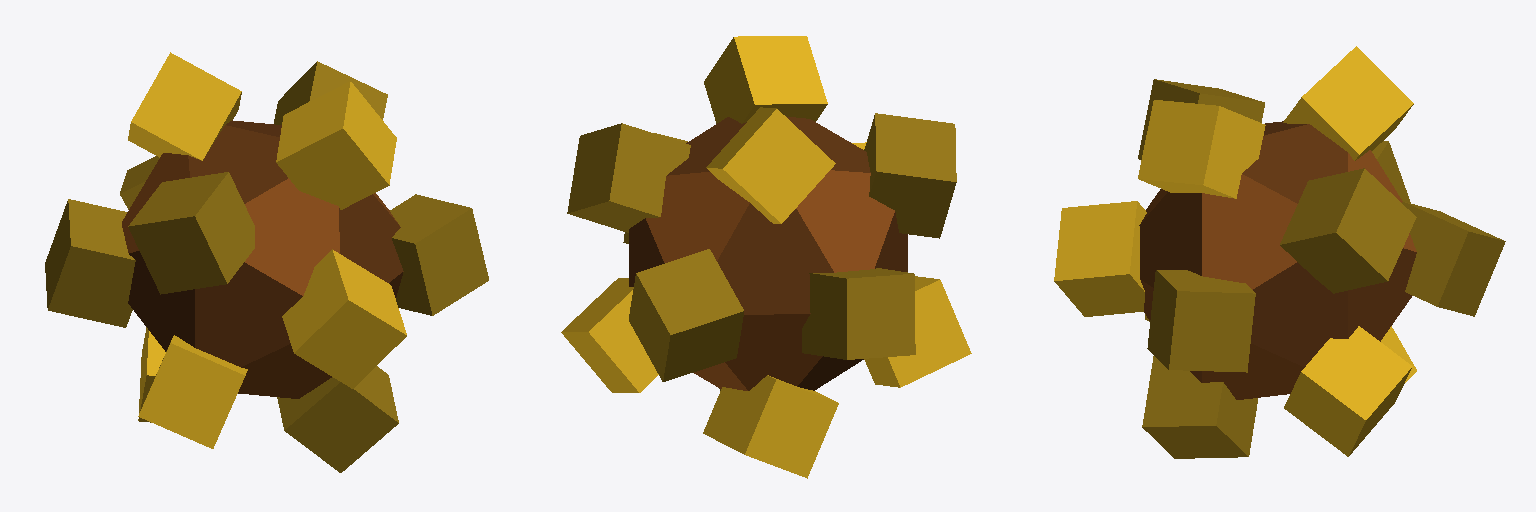
The picture shows the model from 3 angles: view 1: azimuth 30°, elevation 25°; view 2: azimuth 150°, elevation 25°; view 3: azimuth 270°, elevation 25°; orthographic projection.
Parts seen in each view (by area): view 1: asteroid_Icosphere.001; view 2: asteroid_Icosphere.001; view 3: asteroid_Icosphere.001.
Part boxes in pixels (left/top/right/bottom): asteroid_Icosphere.001: left=45, top=52, right=488, bottom=472; asteroid_Icosphere.001: left=561, top=36, right=971, bottom=478; asteroid_Icosphere.001: left=1054, top=46, right=1505, bottom=458.
Size of the model in its own units: 2.51 by 2.52 by 2.76.
Materials: 1 (1 with a texture image).